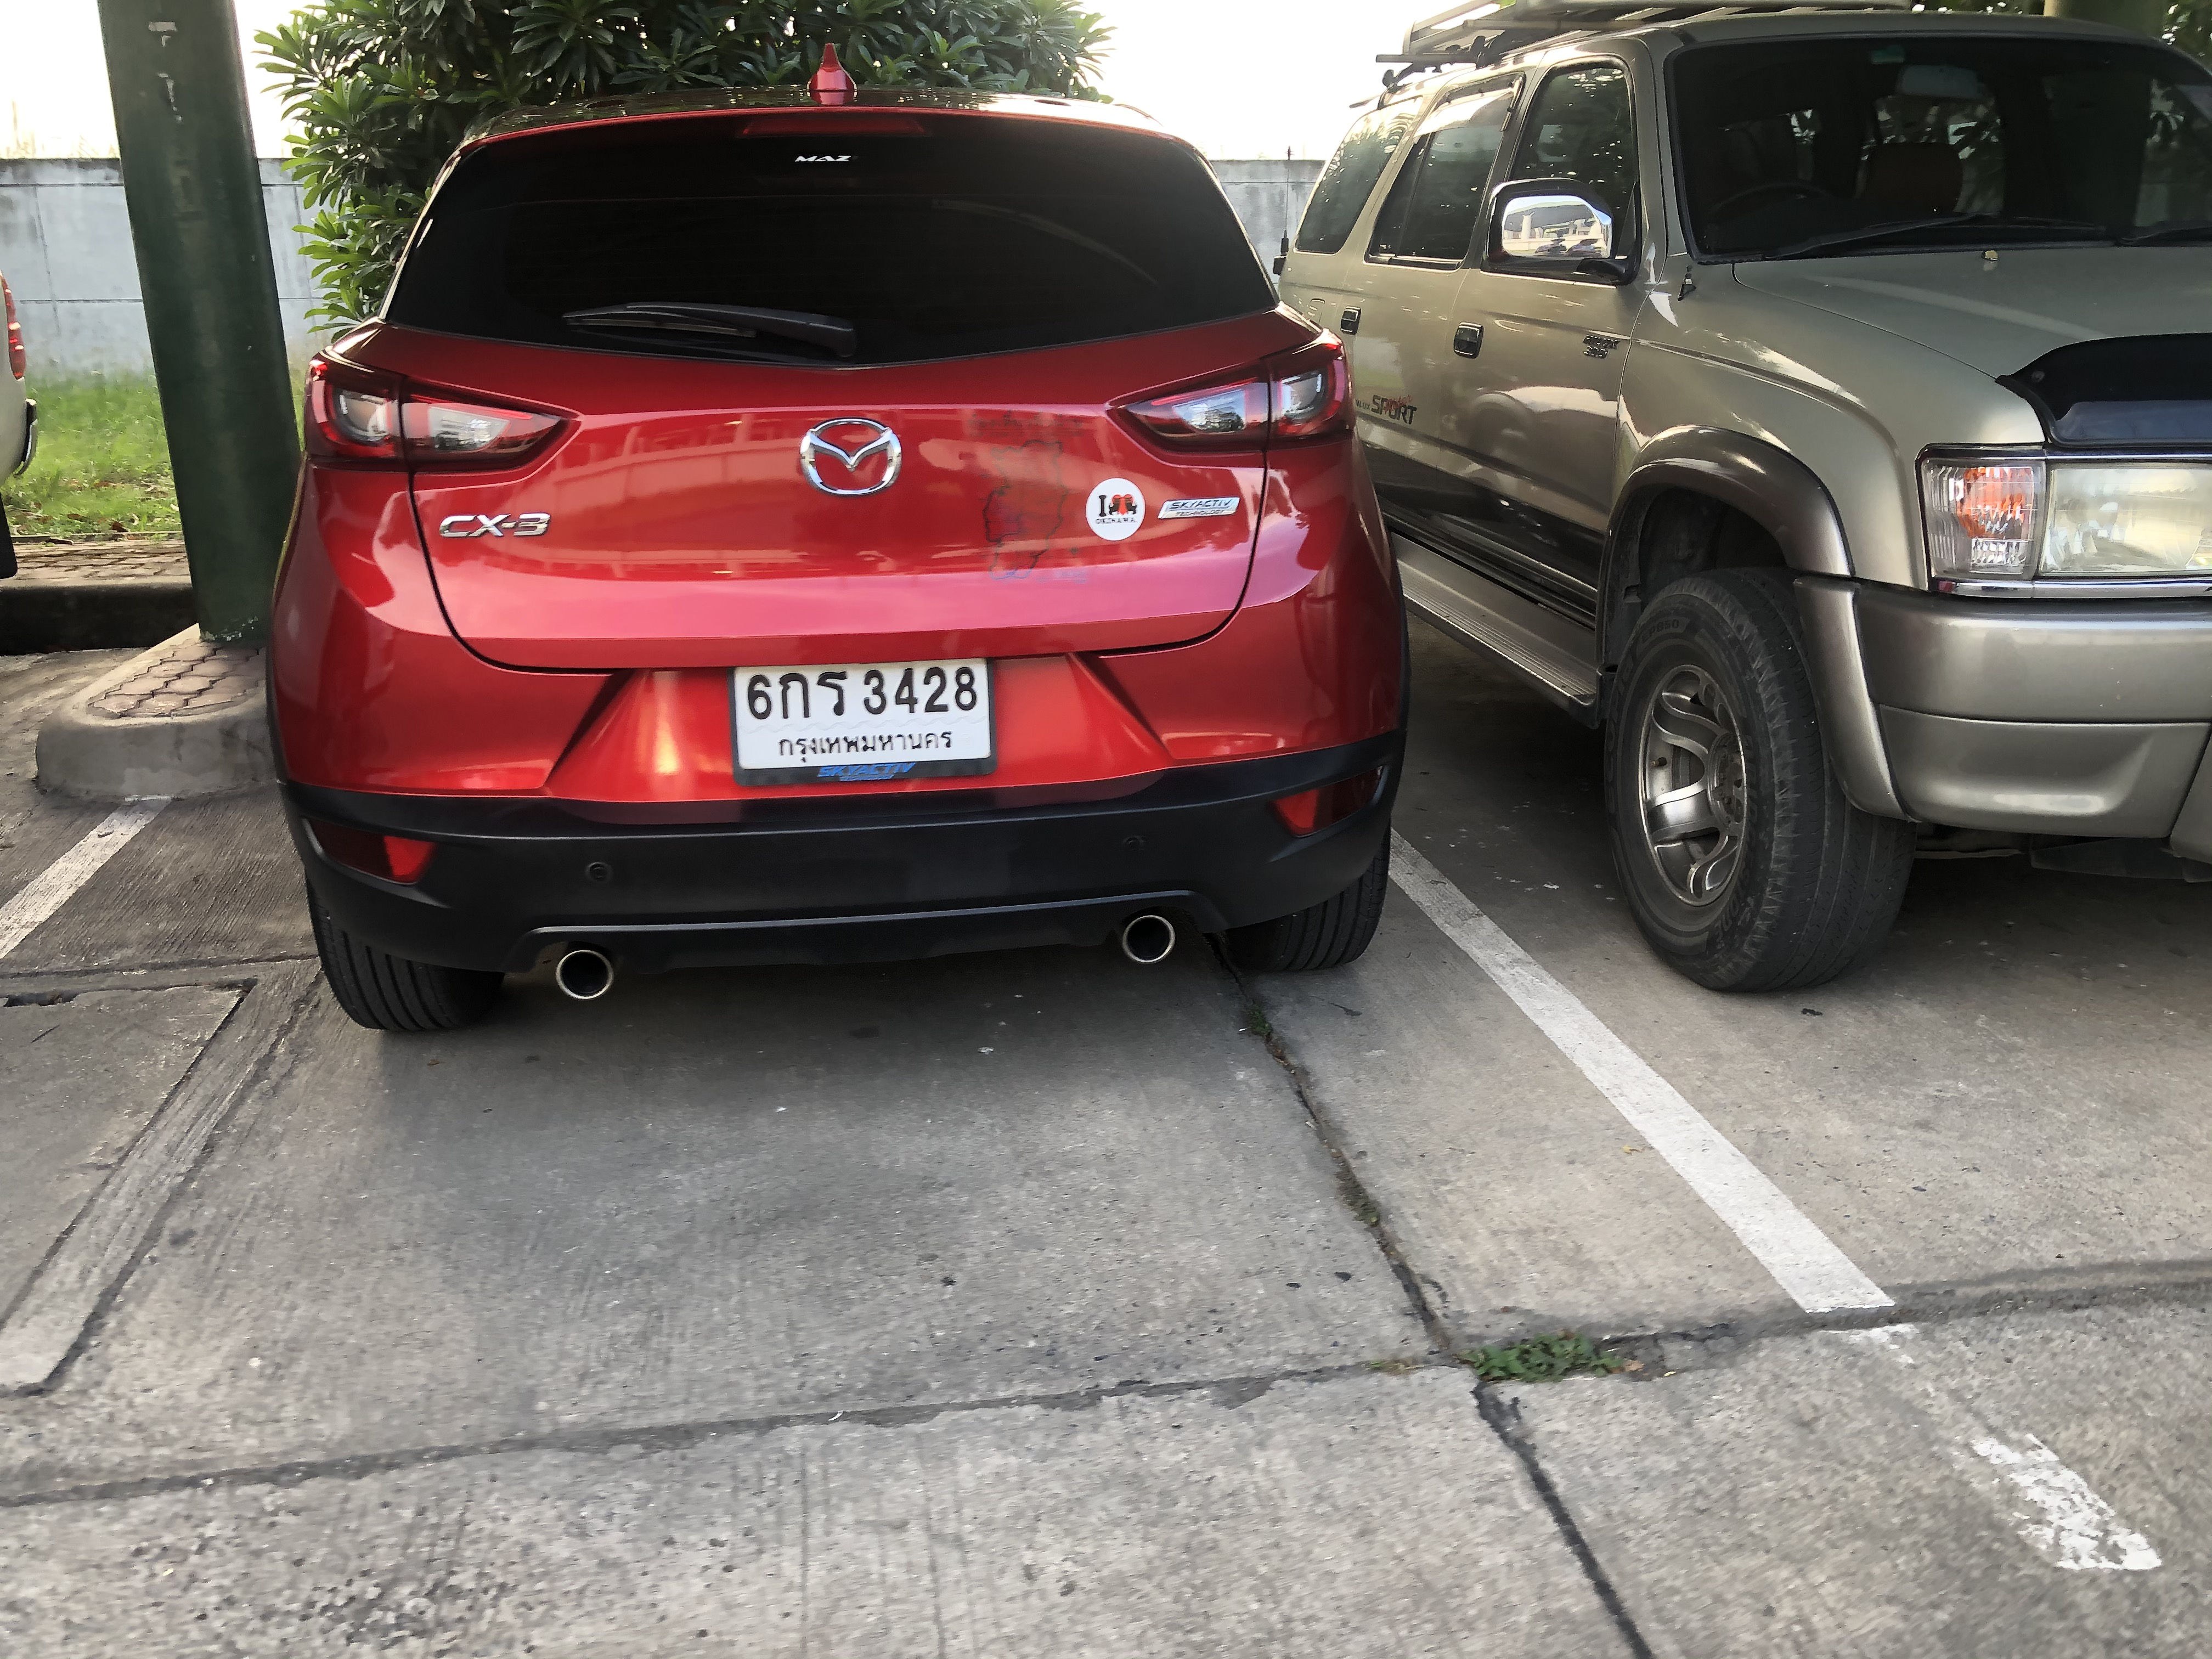in: (733, 669, 993, 756)
out: (725, 659, 1001, 775)
